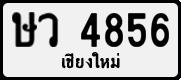letters: (11, 11, 38, 48), (78, 11, 101, 48), (126, 10, 148, 48), (149, 11, 170, 48), (104, 11, 124, 49), (38, 12, 59, 48)
province: (60, 51, 121, 71)
